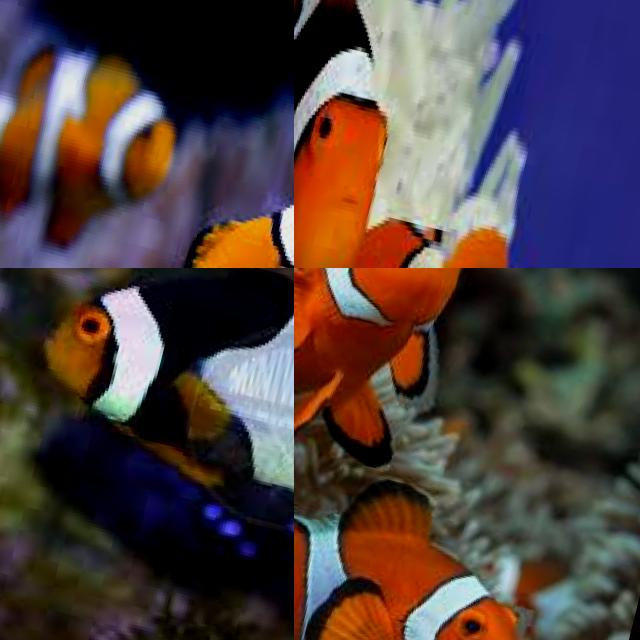Amphiprion-percula: (0, 268, 294, 640), (294, 408, 606, 640), (294, 268, 551, 525), (0, 0, 210, 268), (294, 0, 496, 268), (0, 113, 294, 268), (294, 168, 620, 268)
